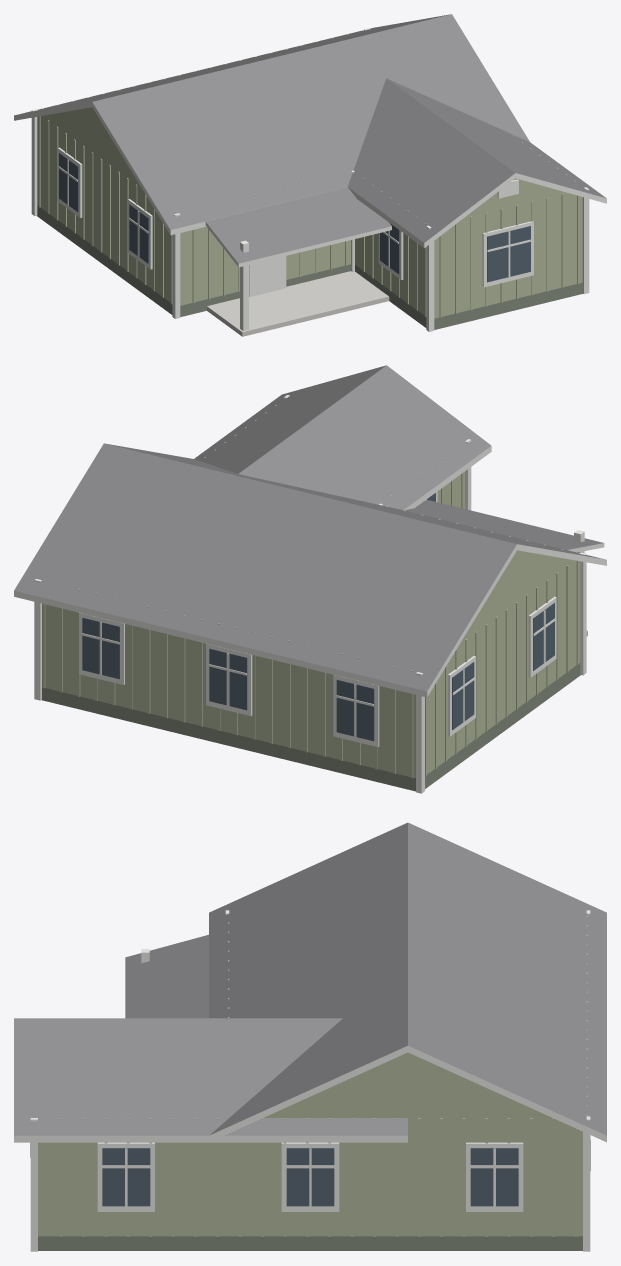
File: oakdale-sage.glb
3 views of the same model, one above another, from view 1: azimuth 30°, elevation 25°; view 2: azimuth 150°, elevation 25°; view 3: azimuth 270°, elevation 25° (orthographic). The views are drawn at different scales.
Visible parts, largest first — view 1: The Oakdale (sage); view 2: The Oakdale (sage); view 3: The Oakdale (sage).
Part boxes in pixels (left/top/right/bottom): The Oakdale (sage): left=14, top=14, right=606, bottom=336; The Oakdale (sage): left=14, top=365, right=606, bottom=793; The Oakdale (sage): left=14, top=822, right=606, bottom=1251.
Size of the model in its own units: 9.9 by 4.43 by 11.12.
